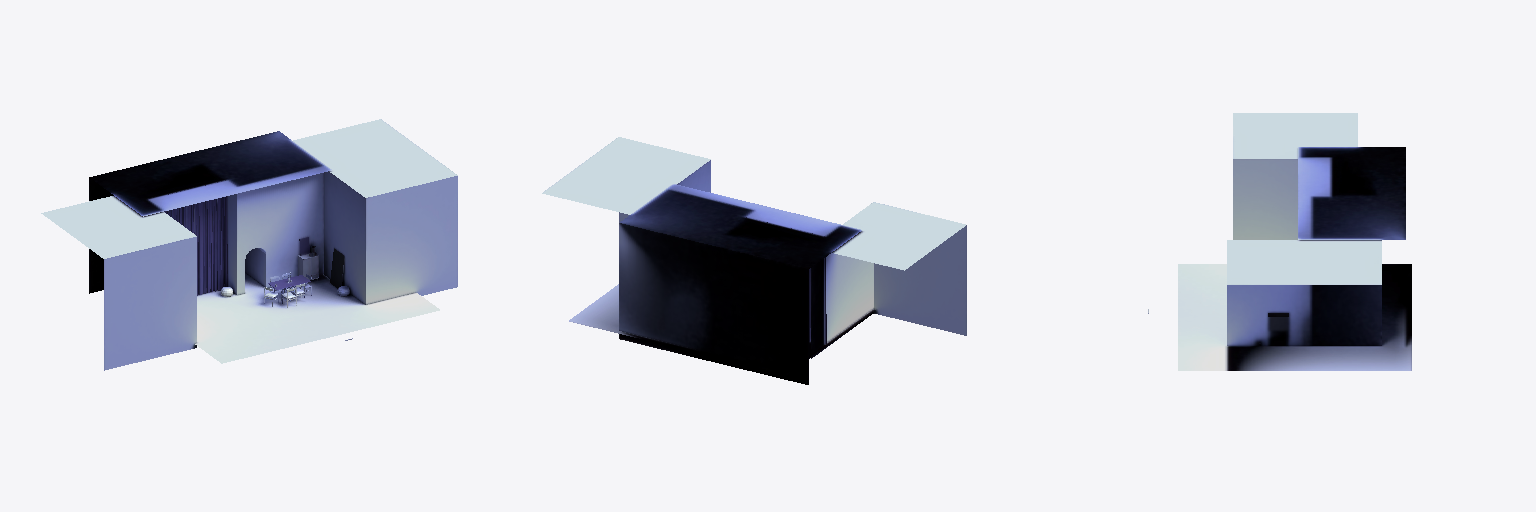
3 views of the same model, side by side, from view 1: azimuth 30°, elevation 25°; view 2: azimuth 150°, elevation 25°; view 3: azimuth 270°, elevation 25° (orthographic).
Visible parts, largest first — view 1: polySurface144; view 2: polySurface144; view 3: polySurface144.
Boxes of the visible parts, x1,y1,x2,y2 form: polySurface144: [41, 119, 457, 370]; polySurface144: [542, 137, 966, 384]; polySurface144: [1148, 113, 1411, 370].
Bounding box in the file's own units: 13.57 × 4.3 × 8.8.
1 materials, 1 textured.